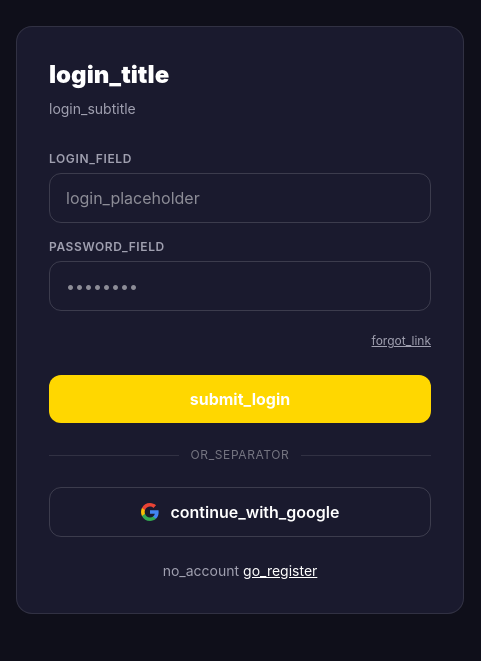
LoginPage › shows the server error message on a failed login
Type "aram" into the field with placeholder "login_placeholder".
click(240, 198); type("aram")  # box [49, 173, 431, 223]
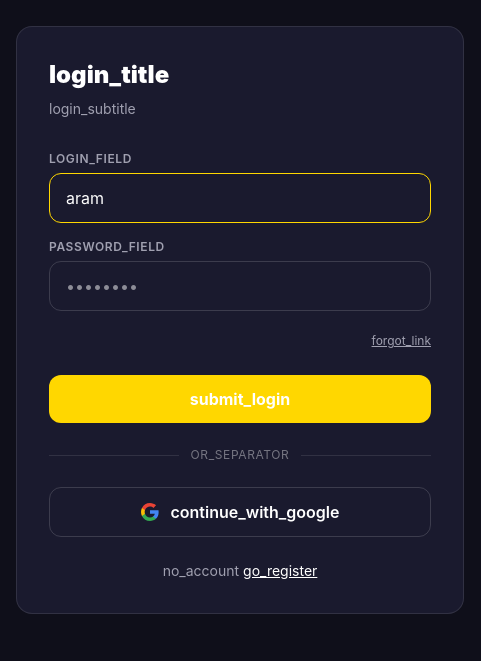
Type "wrong" into the password field with placeholder "••••••••".
click(240, 286); type("wrong")  # box [49, 261, 431, 311]
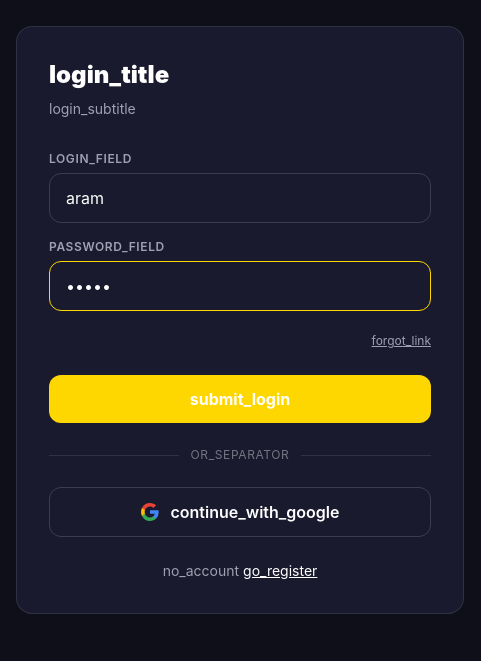
Click the button "submit_login".
click(240, 399)  # box [49, 375, 431, 423]
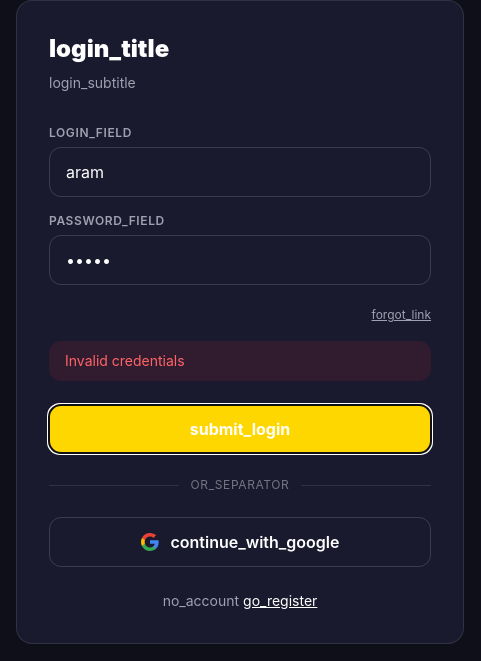
expect the text "Invalid credentials" is shown: met, box [49, 341, 431, 381]
